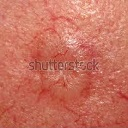Carcinoma: (31, 36, 94, 99)
